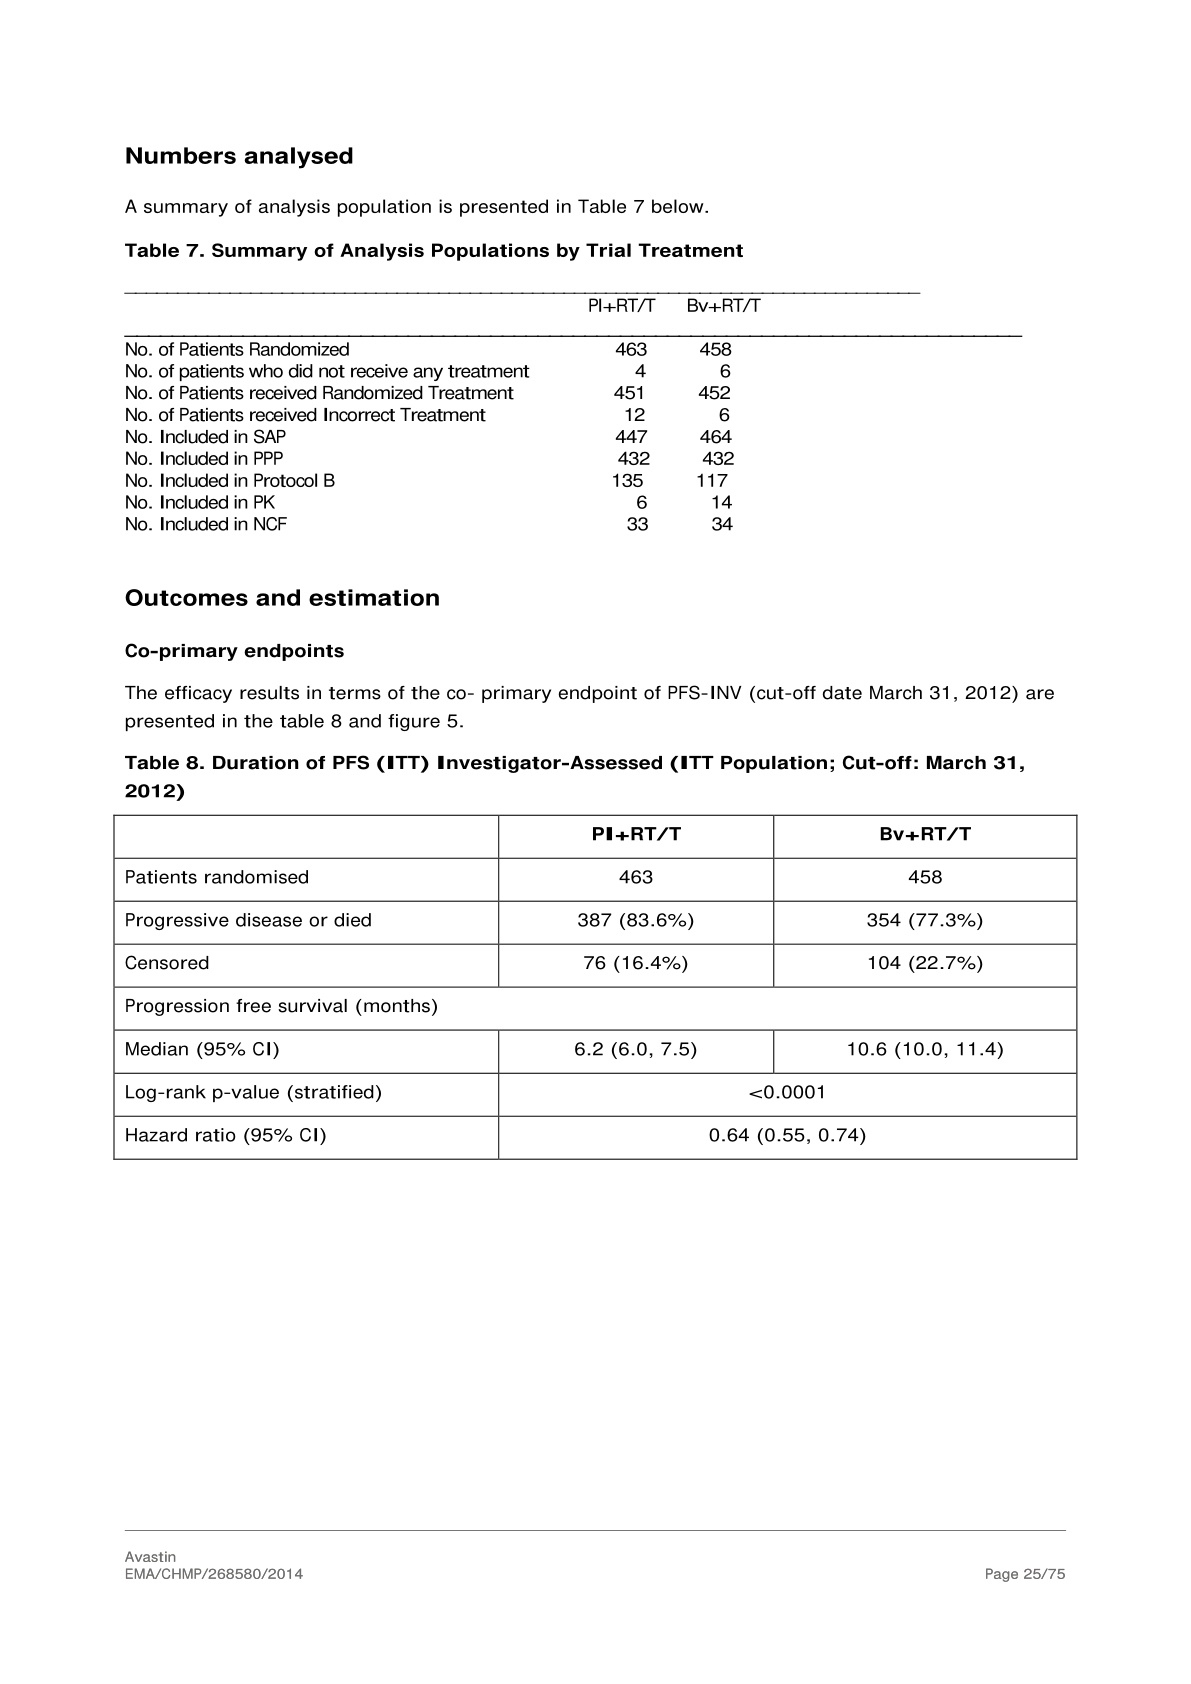merged_cells: (112, 814, 1079, 1162)
partial_lined: (122, 291, 1029, 536)
